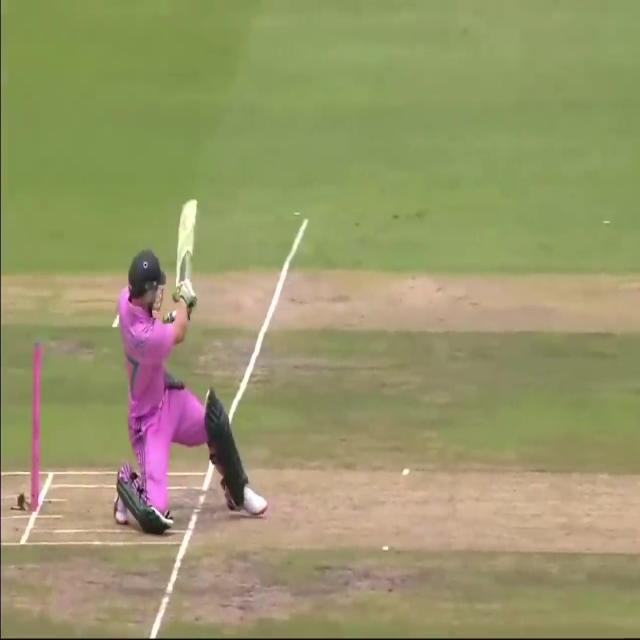Ball: (104, 248, 265, 529)
